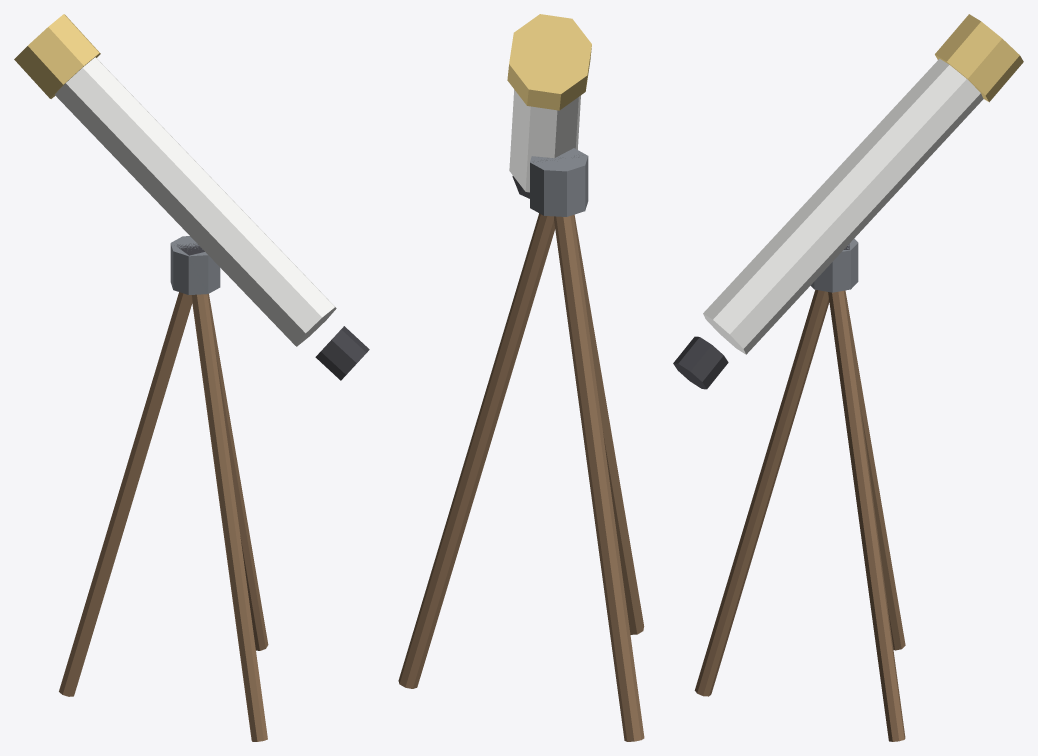
Rendered from telescope.glb.
3 views of the same model, side by side, from view 1: azimuth 30°, elevation 25°; view 2: azimuth 150°, elevation 25°; view 3: azimuth 270°, elevation 25° (orthographic). The views are drawn at different scales.
Visible parts, largest first — view 1: telescope; view 2: telescope; view 3: telescope.
Part boxes in pixels (bbox=[...]): telescope: bbox=[14, 14, 369, 741]; telescope: bbox=[398, 14, 644, 741]; telescope: bbox=[673, 14, 1023, 741].
Bounding box in the file's own units: 0.5593 × 1.65 × 0.8128.
